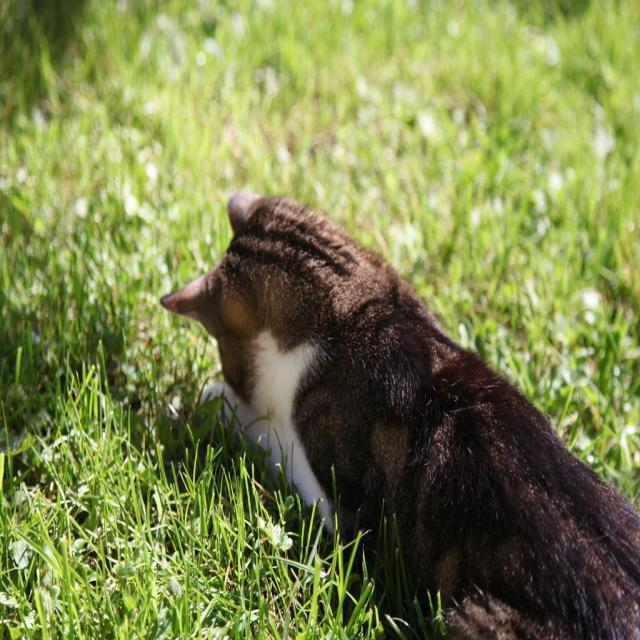Cat: (152, 192, 640, 639)
